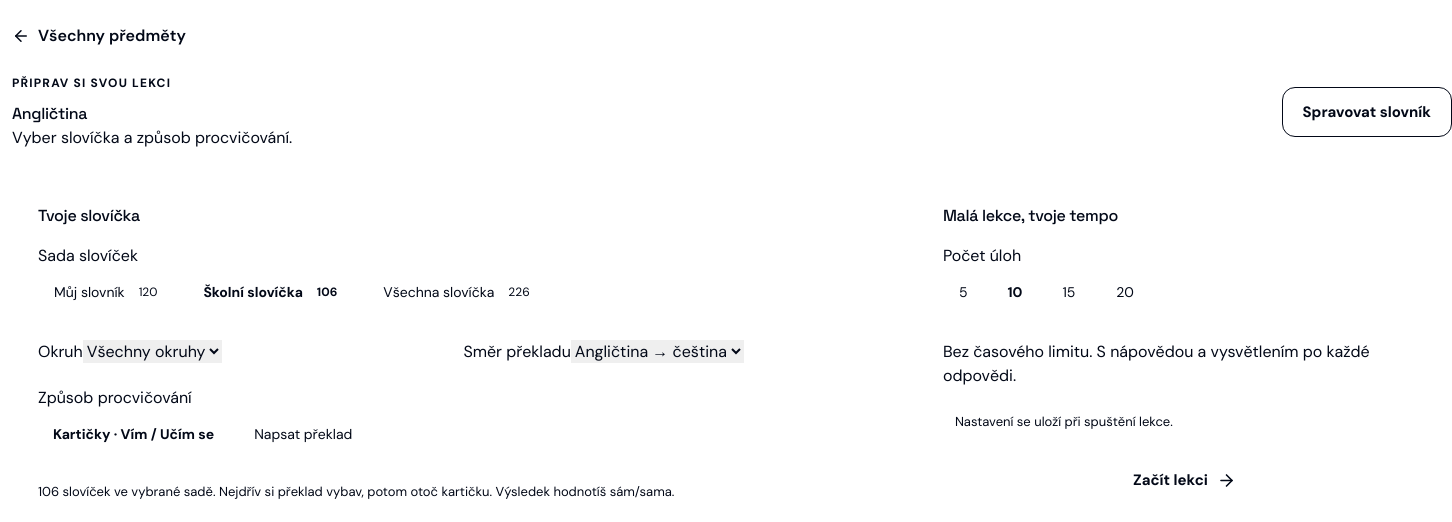
production lesson controls and persistence › does not reveal a bilingual answer on the front of an English card
Later steps or results of the test are not shown.
Step 1. Click the button "5" → {"x": 963, "y": 292}, box [943,268,983,316]
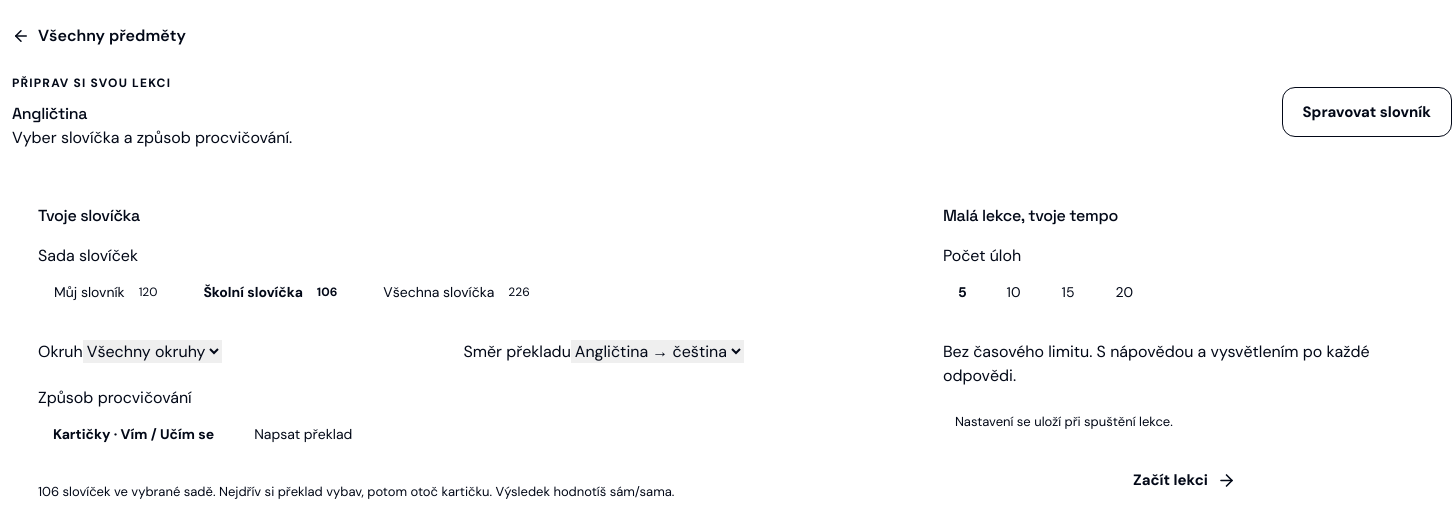
Step 2. Click the button "Začít lekci" → {"x": 1184, "y": 480}, box [943,456,1426,506]
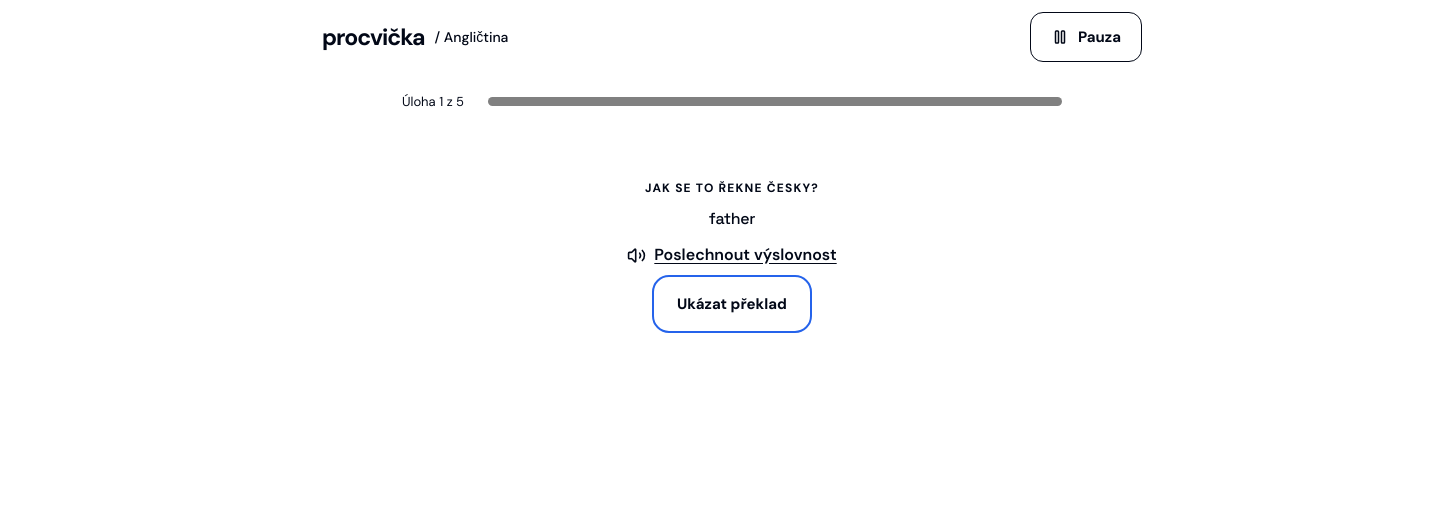
Expected: the button "Vím" is gone
